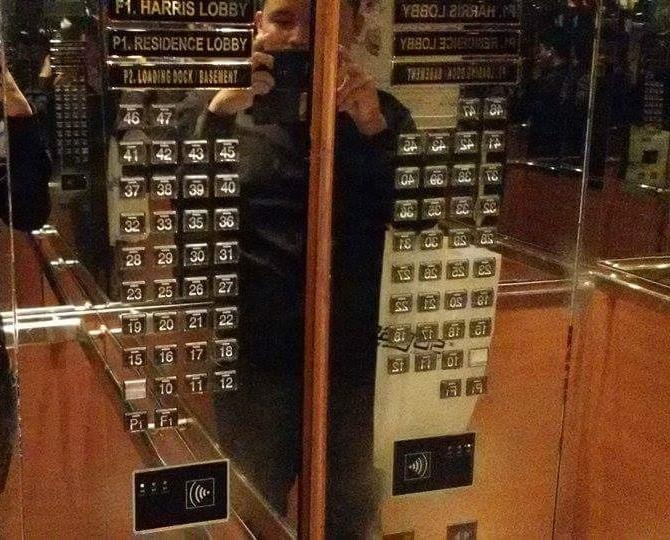10: (153, 375, 178, 399)
11: (183, 373, 208, 397)
12: (213, 369, 238, 393)
15: (122, 345, 148, 370)
16: (151, 343, 179, 369)
17: (183, 340, 209, 366)
18: (213, 337, 239, 363)
19: (120, 311, 147, 337)
20: (151, 310, 179, 335)
21: (183, 308, 209, 333)
22: (212, 305, 240, 331)
23: (119, 279, 148, 306)
25: (152, 277, 178, 305)
26: (181, 275, 209, 301)
27: (212, 273, 240, 299)
28: (119, 245, 147, 273)
29: (150, 244, 178, 271)
30: (182, 242, 210, 268)
31: (212, 240, 240, 266)
32: (118, 210, 147, 237)
33: (149, 209, 178, 236)
35: (181, 208, 208, 234)
36: (212, 207, 240, 233)
37: (117, 175, 147, 202)
38: (149, 175, 179, 201)
39: (181, 174, 210, 200)
40: (213, 173, 241, 199)
41: (117, 141, 145, 166)
42: (151, 140, 177, 164)
43: (182, 139, 208, 164)
45: (213, 138, 240, 165)
46: (116, 103, 143, 128)
47: (151, 104, 174, 128)
F1: (153, 407, 180, 429)
P1: (123, 410, 149, 434)
blur: (123, 377, 148, 401), (468, 346, 489, 368)
unknown: (392, 198, 419, 223), (482, 97, 508, 121), (423, 165, 449, 189), (394, 166, 420, 190), (448, 195, 474, 219), (419, 197, 445, 221), (384, 354, 411, 377), (479, 162, 503, 187), (452, 163, 477, 187), (475, 194, 500, 218), (412, 350, 437, 374), (453, 131, 479, 154), (425, 132, 451, 155), (443, 258, 469, 281), (442, 289, 468, 312), (416, 260, 443, 282), (457, 97, 481, 121), (481, 131, 506, 154), (446, 227, 471, 250), (471, 256, 496, 279), (469, 287, 494, 310), (415, 290, 440, 313), (386, 322, 411, 345), (439, 348, 464, 371), (397, 133, 423, 155), (417, 229, 443, 251), (473, 225, 498, 247), (389, 262, 414, 284), (387, 293, 412, 315), (391, 231, 415, 253), (414, 321, 438, 343), (441, 319, 465, 340), (438, 378, 461, 399), (469, 318, 492, 338), (464, 376, 486, 396)
